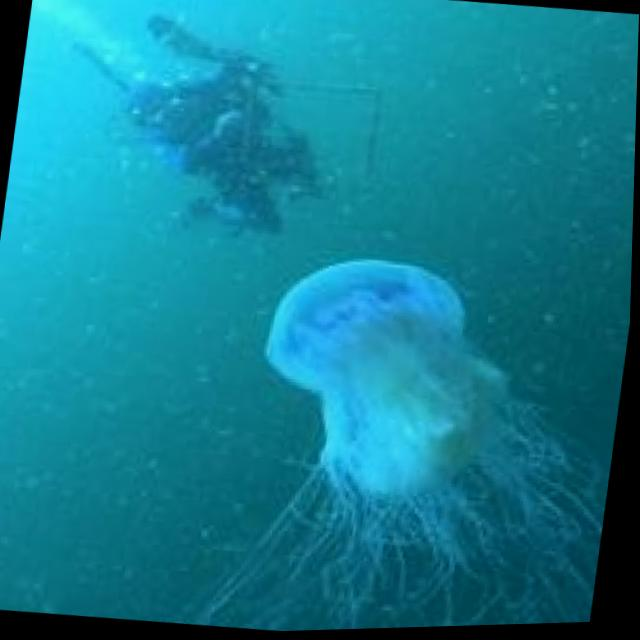Human: (47, 0, 356, 248)
Moon-jellyfish: (162, 232, 634, 636)
